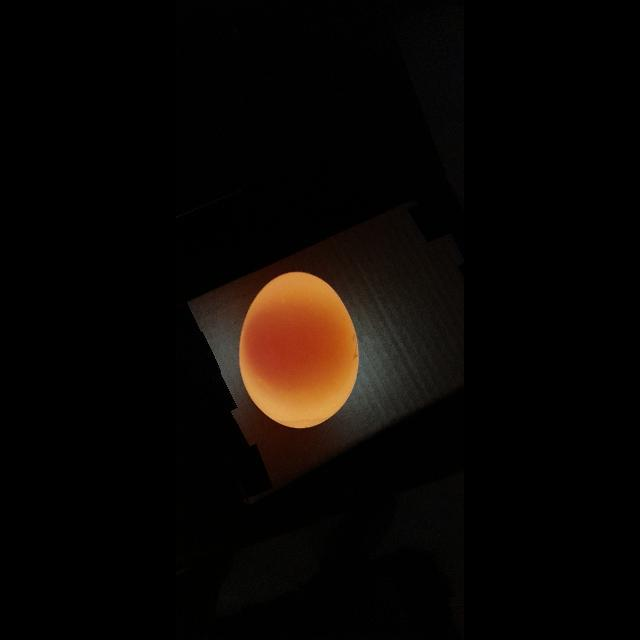A - Good: (240, 264, 362, 438)
